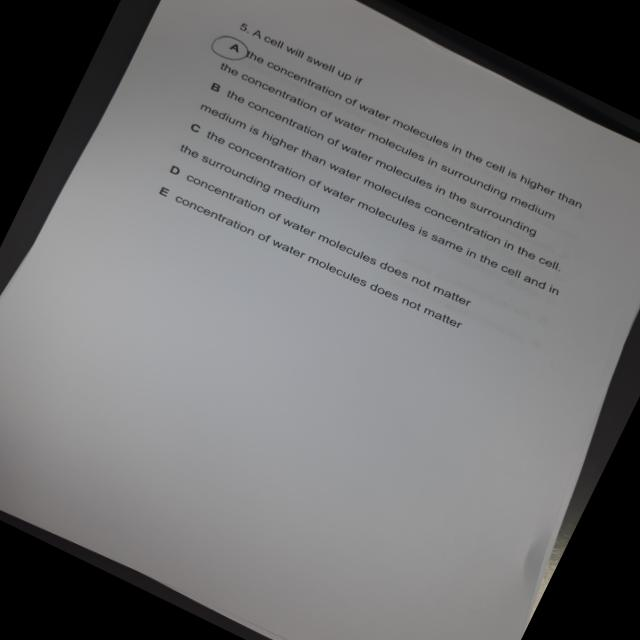A: (205, 27, 259, 72)
